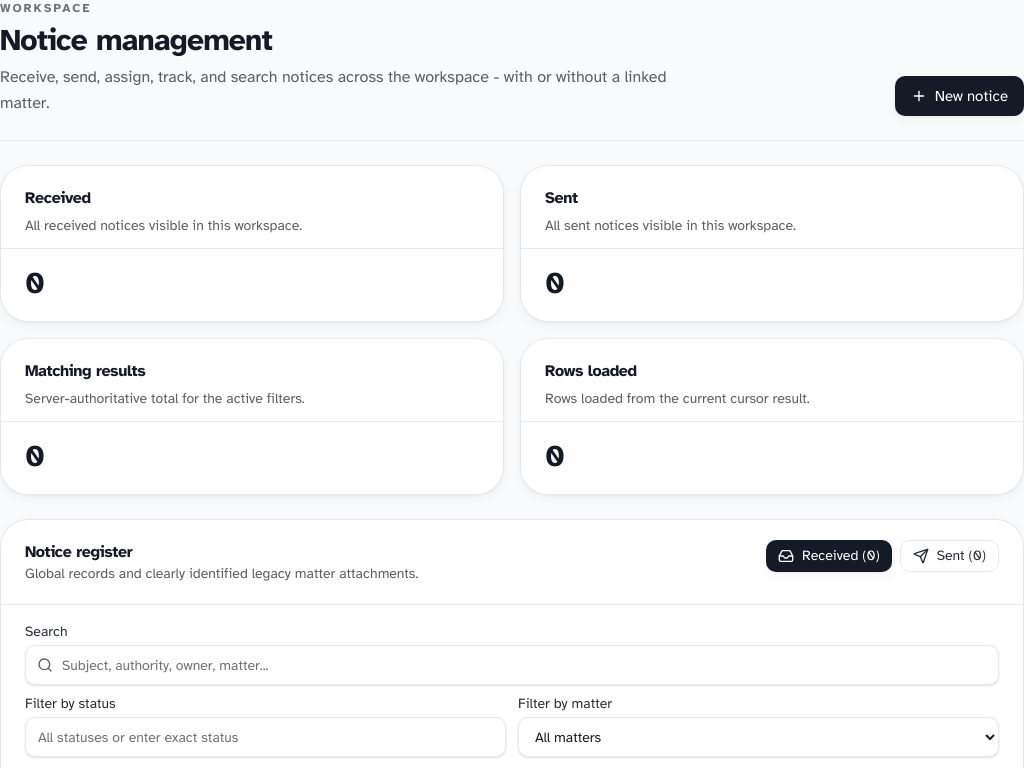
Test case: centralized notice management › limits an upload-only creator to self-assignment without probing owners
The width and height of the screenshot is (1024, 768).
Click the button "New notice" at point(959, 96), box left=895, top=76, right=1023, bottom=116
(page scrolled)
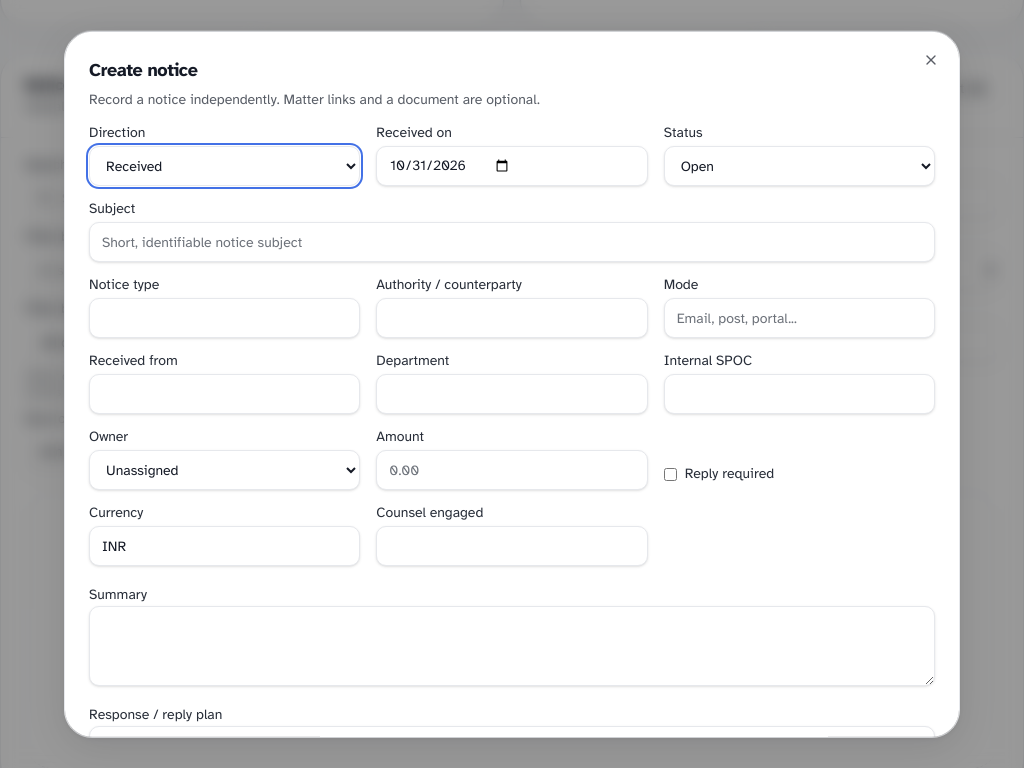
Expected: the dropdown labelled "Owner" does not show "Vikram Sen", left=89, top=450, right=360, bottom=490
Expected: the dropdown labelled "Owner" is enabled, left=89, top=450, right=360, bottom=490
